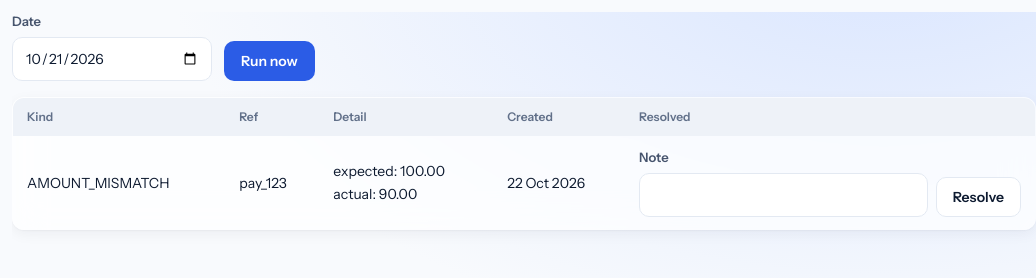
Test: needs a note to resolve an issue
Click the button "Resolve" at (978, 197), box [936, 177, 1021, 217]
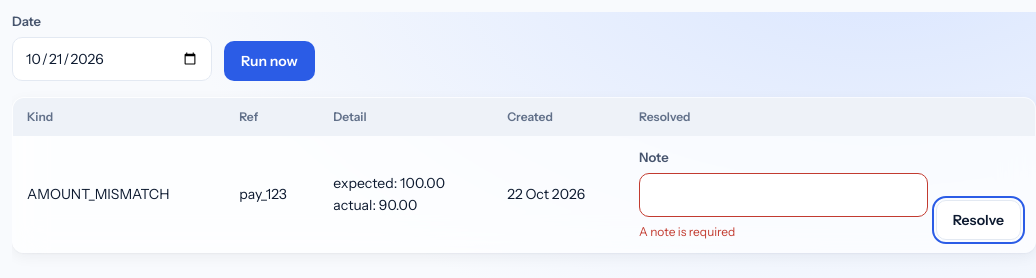
Check: the text "A note is required" is shown, box [639, 224, 735, 239]
Type " refunded manually " into the field labelled "Note" at (783, 195), box [639, 173, 928, 217]
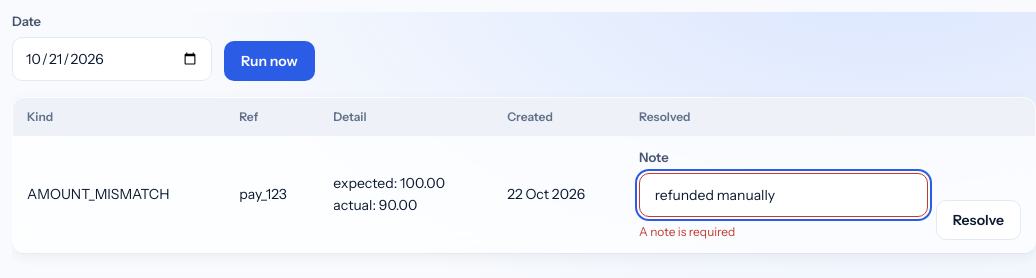
Click the button "Resolve" at (978, 220), box [936, 200, 1021, 240]
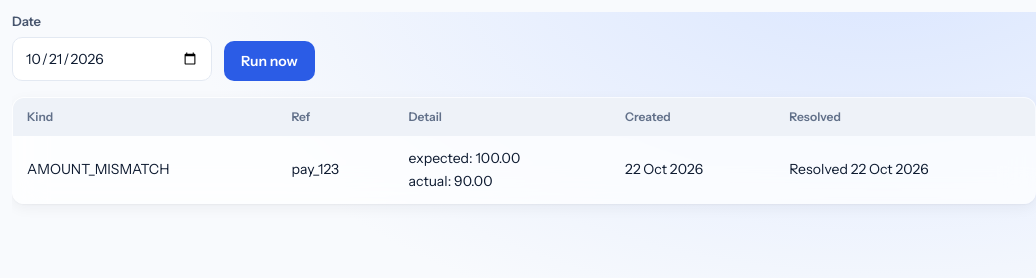
Check: the text "Resolved 22 Oct 2026" is shown, box [789, 160, 929, 178]
